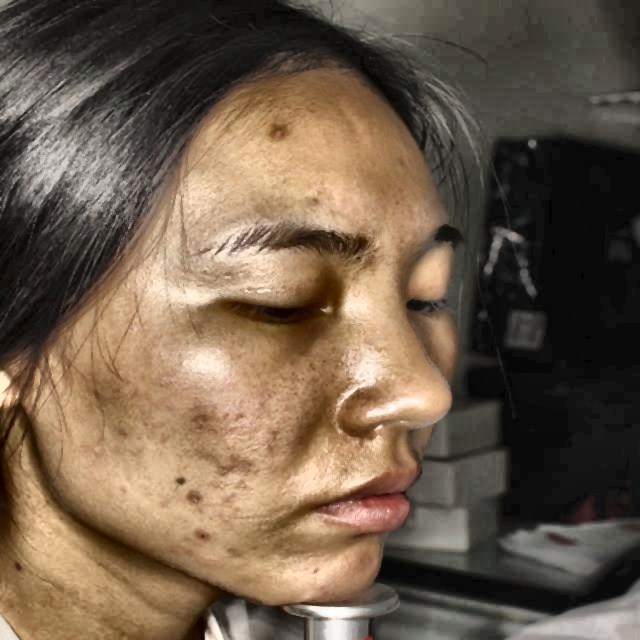pustule: (184, 515, 220, 547), (259, 119, 295, 150), (218, 452, 240, 484), (180, 482, 204, 505), (224, 539, 250, 560), (165, 543, 192, 563)
